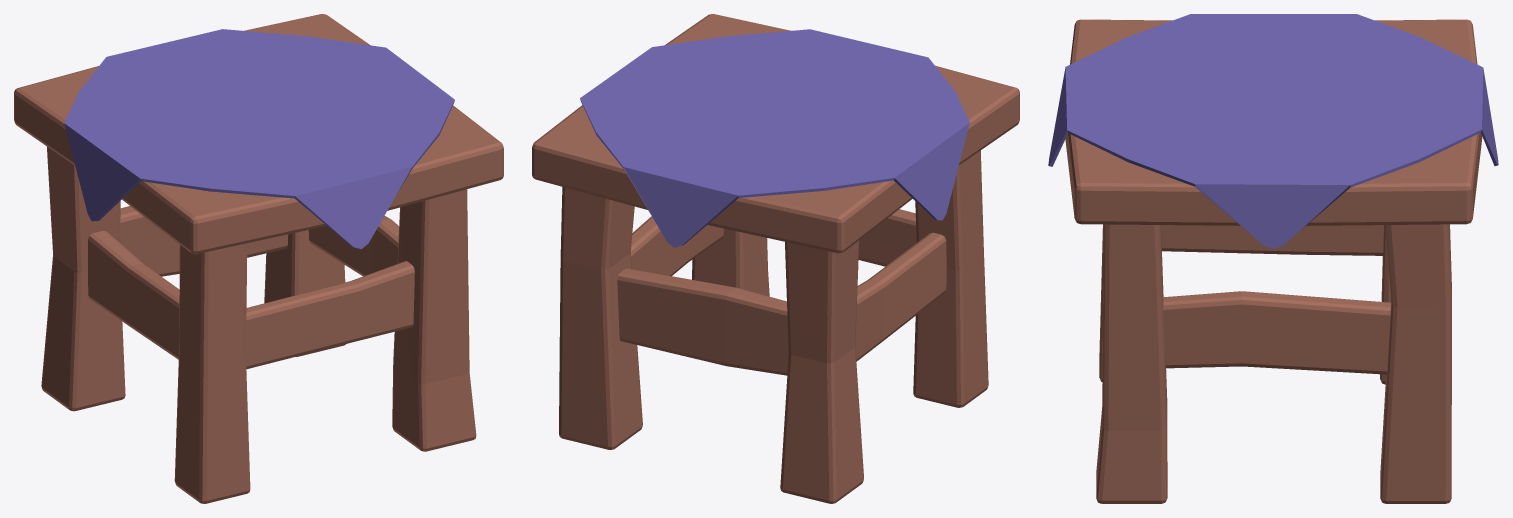
Rendered from End_table.fbx.
3 renders of one model, left to right at view 1: azimuth 30°, elevation 25°; view 2: azimuth 150°, elevation 25°; view 3: azimuth 270°, elevation 25°, orthographic. The views are drawn at different scales.
Visible parts, largest first — view 1: End_table; view 2: End_table; view 3: End_table.
Part boxes in pixels (x1,y1,x2,y2): End_table: (14, 14, 503, 503); End_table: (532, 14, 1019, 503); End_table: (1048, 14, 1498, 503).
Size of the model in its own units: 86.31 by 74.72 by 91.45.
